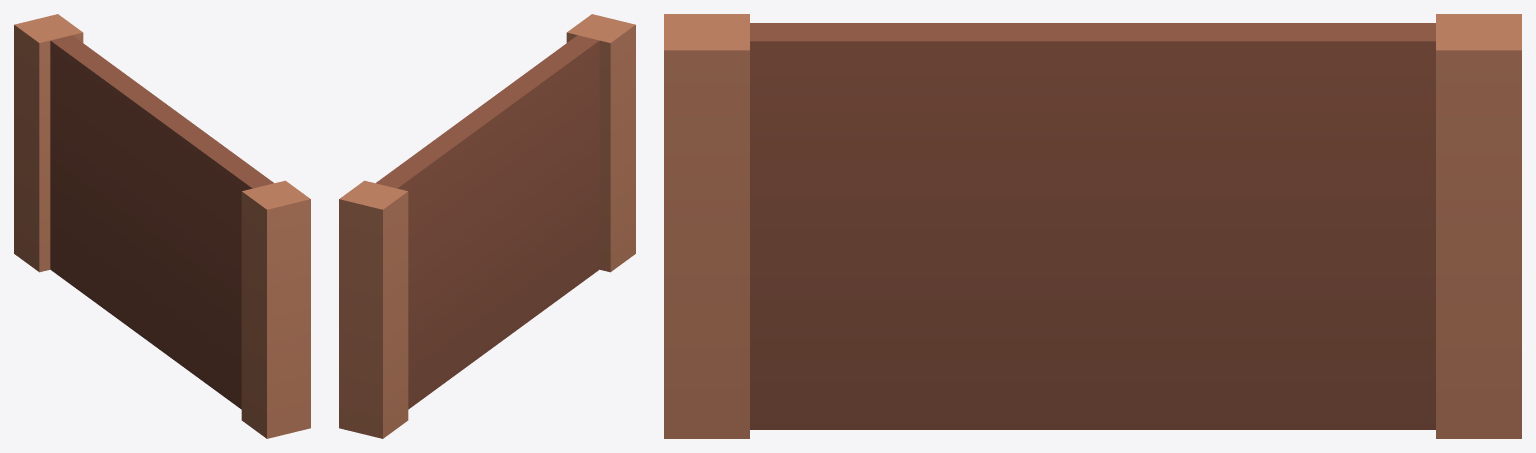
The model's file is wall-wood-half.glb.
3 views of the same model, side by side, from view 1: azimuth 30°, elevation 25°; view 2: azimuth 150°, elevation 25°; view 3: azimuth 270°, elevation 25° (orthographic). The views are drawn at different scales.
Parts seen in each view (by area): view 1: wall-wood-half; view 2: wall-wood-half; view 3: wall-wood-half.
Boxes of the visible parts, <box> form: wall-wood-half: <box>14,14,310,438</box>; wall-wood-half: <box>339,14,635,438</box>; wall-wood-half: <box>664,14,1521,438</box>.
Bounding box in the file's own units: 0.1 × 0.5 × 1.
1 material, 1 textured.
